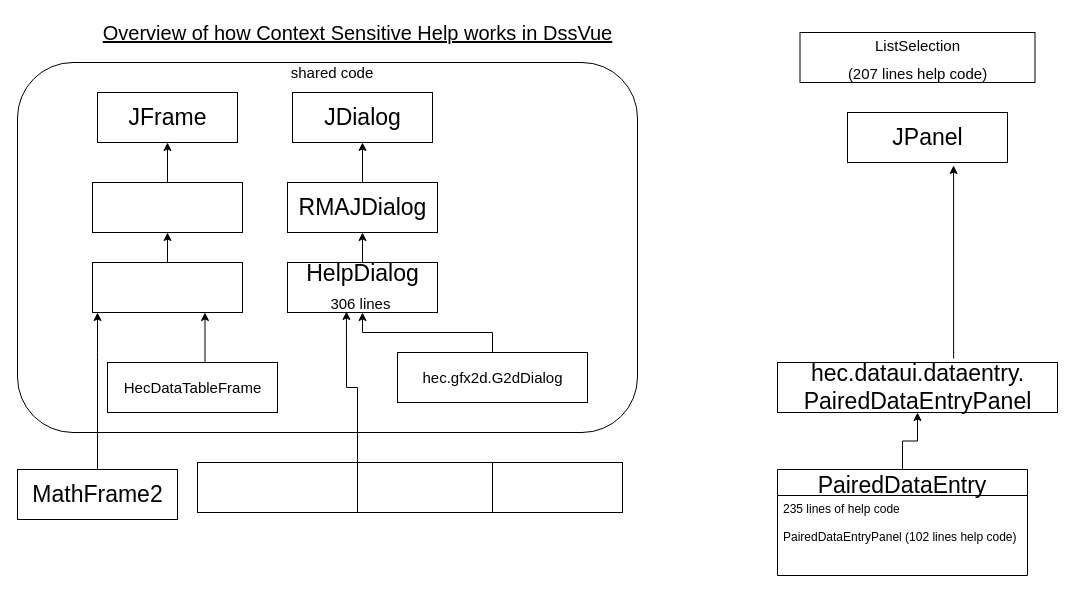
Some shapes in this 1075 by 595 pixel diagram are drawn without their labels. Here are the shapes that lost their labels. From the top down, the centre of each, then its label:
At point (167, 207): "RMAJFrame".
At point (167, 287): "HelpFrame 271 lines".
At point (277, 487): "TimeSeriesDataEntry".
At point (424, 487): "SupplementalInfo7".
At point (557, 487): "OptionsDialog".
